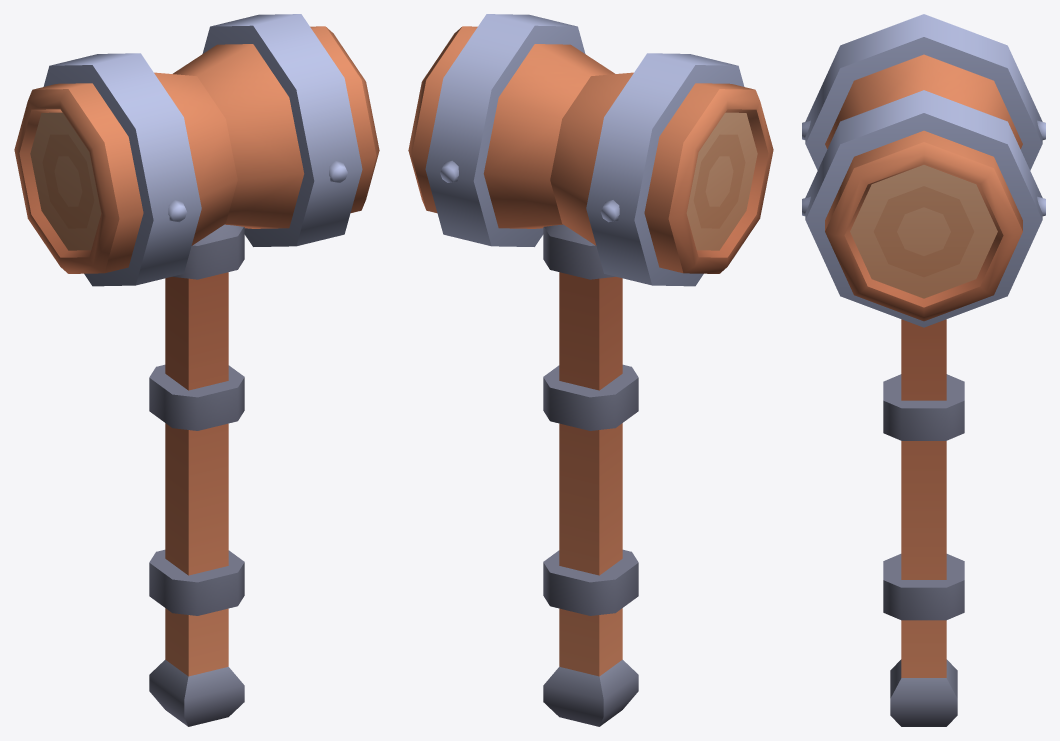
The model's file is hammer-b.fbx.
3 renders of one model, left to right at view 1: azimuth 30°, elevation 25°; view 2: azimuth 150°, elevation 25°; view 3: azimuth 270°, elevation 25°, orthographic. The views are drawn at different scales.
Visible parts, largest first — view 1: hammer-b; view 2: hammer-b; view 3: hammer-b.
Part boxes in pixels (x1=…): hammer-b: x1=14, y1=14, x2=379, y2=726; hammer-b: x1=408, y1=14, x2=773, y2=726; hammer-b: x1=802, y1=14, x2=1045, y2=726.
Bounding box in the file's own units: 170 × 401 × 135.
1 material, 1 textured.
